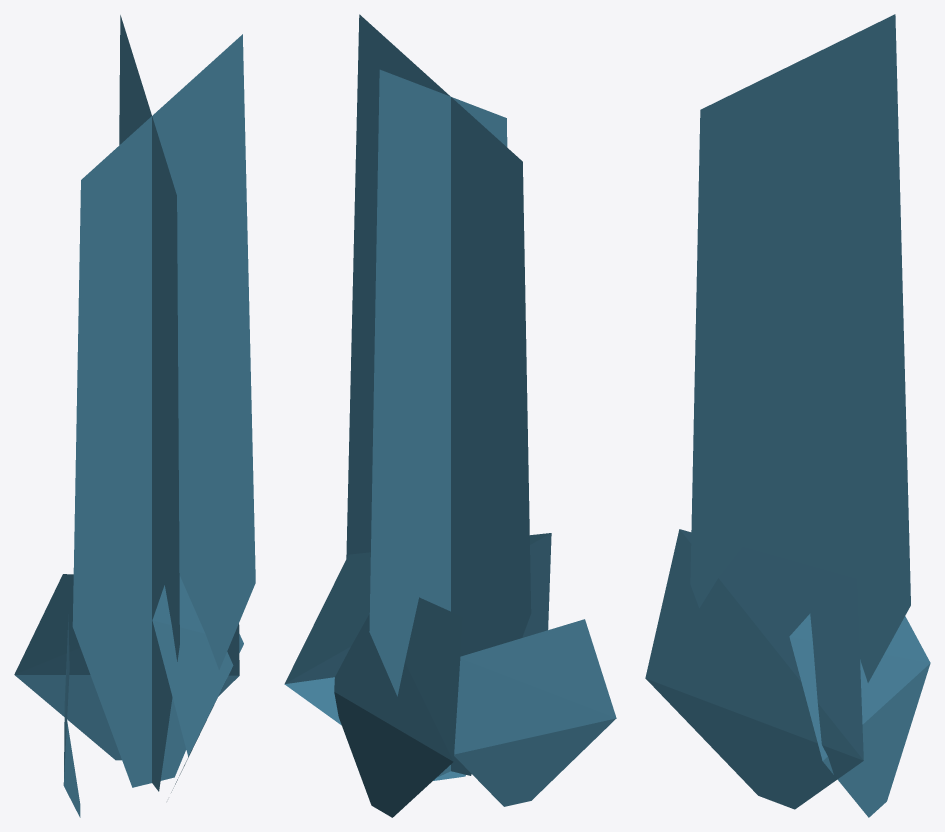
The model's file is SM_FOL_Grass_Tall_01_A.obj.
3 views of the same model, side by side, from view 1: azimuth 30°, elevation 25°; view 2: azimuth 150°, elevation 25°; view 3: azimuth 270°, elevation 25° (orthographic). The views are drawn at different scales.
Parts seen in each view (by area): view 1: SM_FOL_Grass_Tall_01_A; view 2: SM_FOL_Grass_Tall_01_A; view 3: SM_FOL_Grass_Tall_01_A.
Part boxes in pixels (x1=…): SM_FOL_Grass_Tall_01_A: x1=14, y1=15, x2=255, y2=817; SM_FOL_Grass_Tall_01_A: x1=284, y1=14, x2=616, y2=817; SM_FOL_Grass_Tall_01_A: x1=645, y1=14, x2=930, y2=817.
Bounding box in the file's own units: 44.49 × 124 × 40.41.
